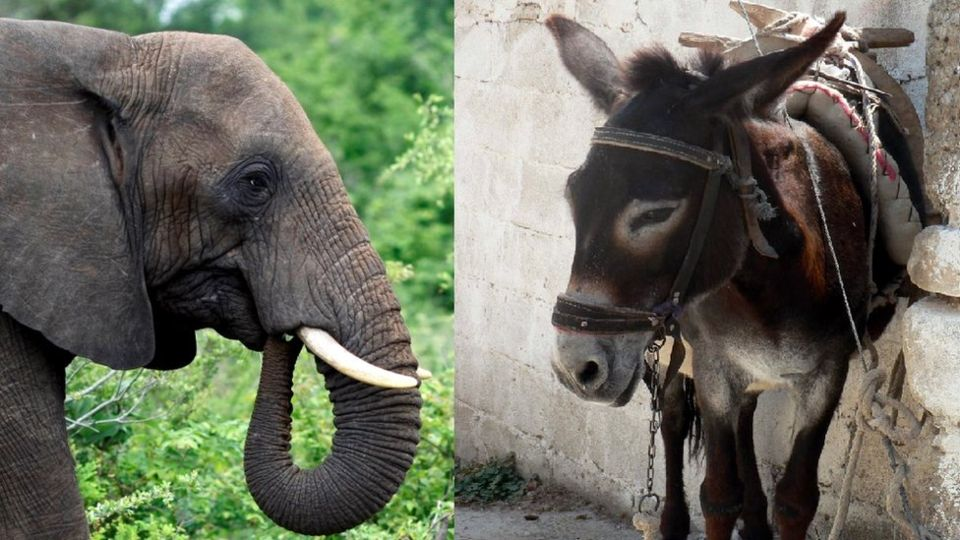donkey: (536, 10, 932, 540)
elephant: (2, 27, 421, 540)
